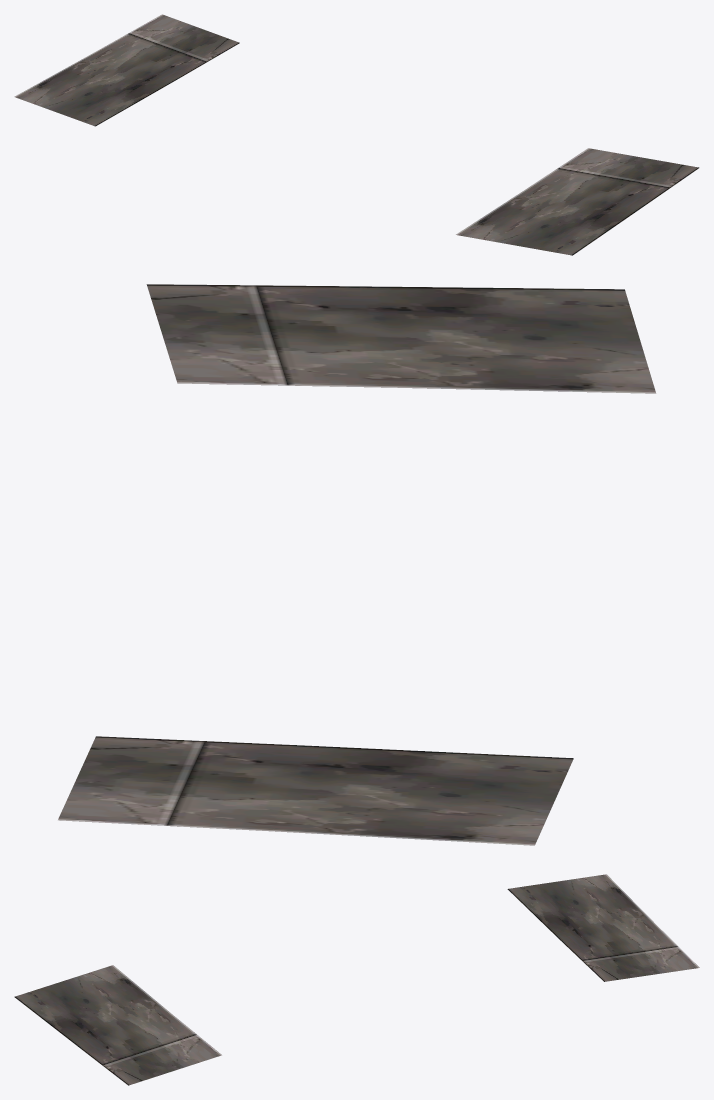
File: CH09_SMAUG_PLAYSURFACE_LAIR135.fbx
3 renders of one model, top to bottom at view 1: azimuth 30°, elevation 25°; view 2: azimuth 150°, elevation 25°; view 3: azimuth 270°, elevation 25°, orthographic. The views are drawn at different scales.
Visible parts, largest first — view 1: CH09_SMAUG_PLAYSURFACE_LAIR135; view 2: CH09_SMAUG_PLAYSURFACE_LAIR135; view 3: CH09_SMAUG_PLAYSURFACE_LAIR135.
Part boxes in pixels (x1=…): CH09_SMAUG_PLAYSURFACE_LAIR135: x1=14, y1=14, x2=699, y2=255; CH09_SMAUG_PLAYSURFACE_LAIR135: x1=58, y1=284, x2=656, y2=845; CH09_SMAUG_PLAYSURFACE_LAIR135: x1=14, y1=874, x2=699, y2=1085.
Bounding box in the file's own units: 40094 × 0.0107 × 54978.
1 material, 1 textured.
